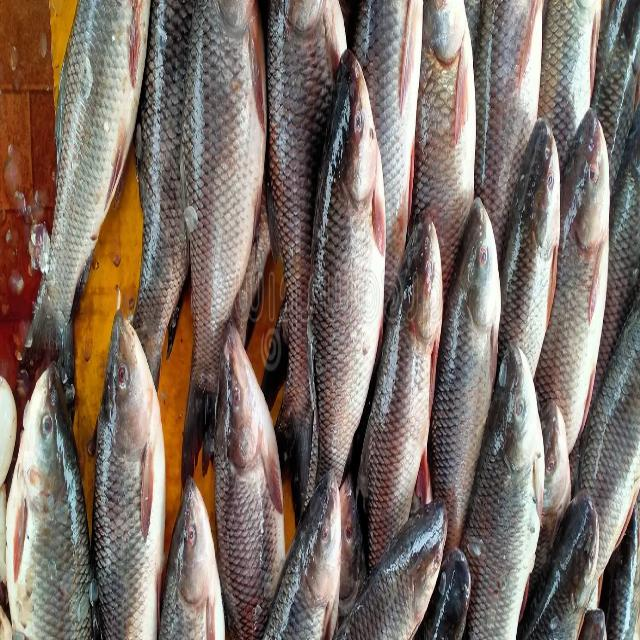Rohu: (302, 56, 386, 523), (431, 195, 502, 562)
